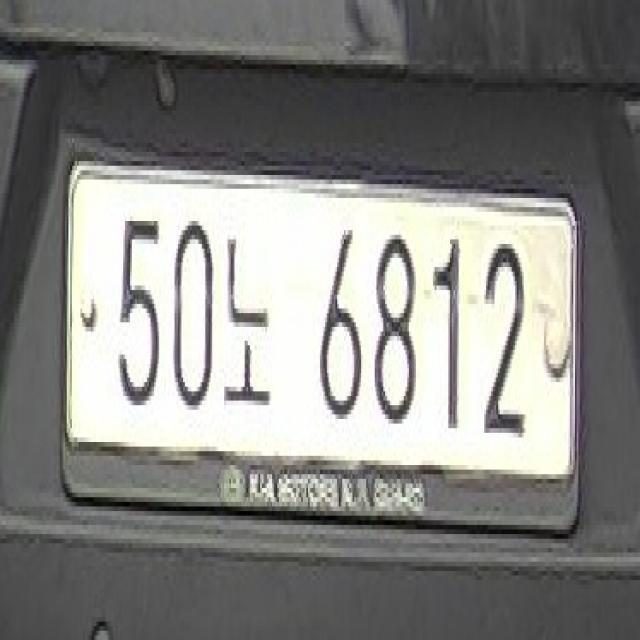0: (172, 222, 214, 414)
1: (432, 232, 468, 442)
2: (478, 226, 534, 456)
5: (108, 215, 163, 414)
6: (314, 220, 364, 442)
8: (370, 226, 417, 438)
license_plate: (56, 158, 584, 534)
no: (222, 225, 274, 428)
